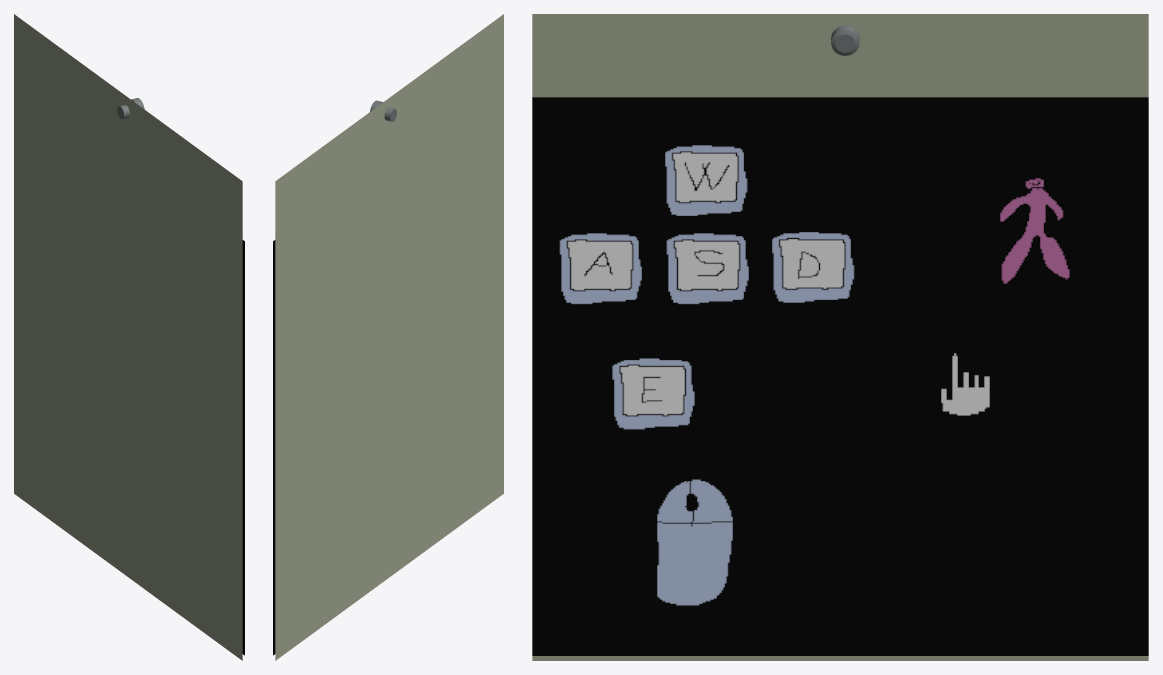
The model's file is tutorial2.glb.
3 views of the same model, side by side, from view 1: azimuth 30°, elevation 25°; view 2: azimuth 150°, elevation 25°; view 3: azimuth 270°, elevation 25° (orthographic). The views are drawn at different scales.
Parts seen in each view (by area): view 1: foglio, Plane.001; view 2: foglio, Plane.001; view 3: Plane.001, foglio.
Boxes of the visible parts, bbox=[...] form: foglio: bbox=[14, 14, 242, 660]; Plane.001: bbox=[242, 240, 244, 655]; foglio: bbox=[275, 14, 503, 660]; Plane.001: bbox=[273, 240, 275, 655]; Plane.001: bbox=[532, 97, 1148, 655]; foglio: bbox=[532, 14, 1148, 660].
Bounding box in the file's own units: 0.1397 × 3.22 × 2.78.
Materials: 3 (1 with a texture image).
